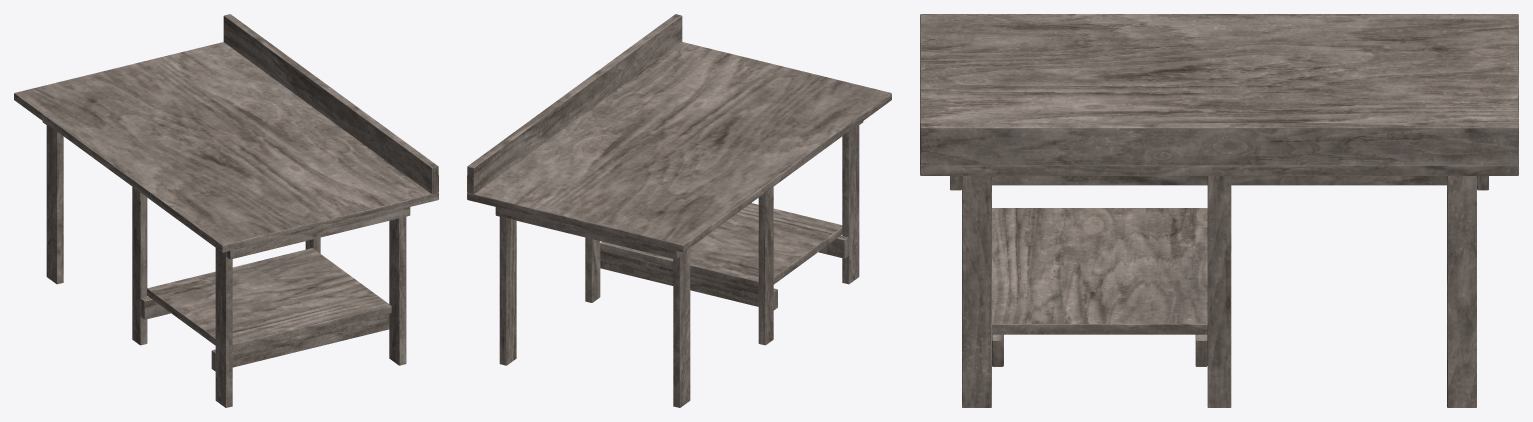
The model's file is SM_workbench.fbx.
3 renders of one model, left to right at view 1: azimuth 30°, elevation 25°; view 2: azimuth 150°, elevation 25°; view 3: azimuth 270°, elevation 25°, orthographic. The views are drawn at different scales.
Parts seen in each view (by area): view 1: SM_workbench_LOD0; view 2: SM_workbench_LOD0; view 3: SM_workbench_LOD0.
Part boxes in pixels (x1,y1,x2,y2): SM_workbench_LOD0: (14, 14, 438, 407); SM_workbench_LOD0: (467, 14, 891, 407); SM_workbench_LOD0: (920, 14, 1518, 407).
Size of the model in its own units: 120 by 200 by 108.
